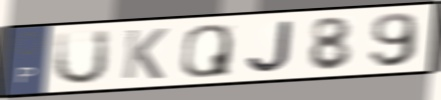8: (309, 15, 355, 72)
9: (368, 11, 420, 68)
J: (244, 18, 296, 75)
K: (119, 26, 170, 81)
Q: (179, 22, 233, 79)
U: (51, 27, 112, 87)
